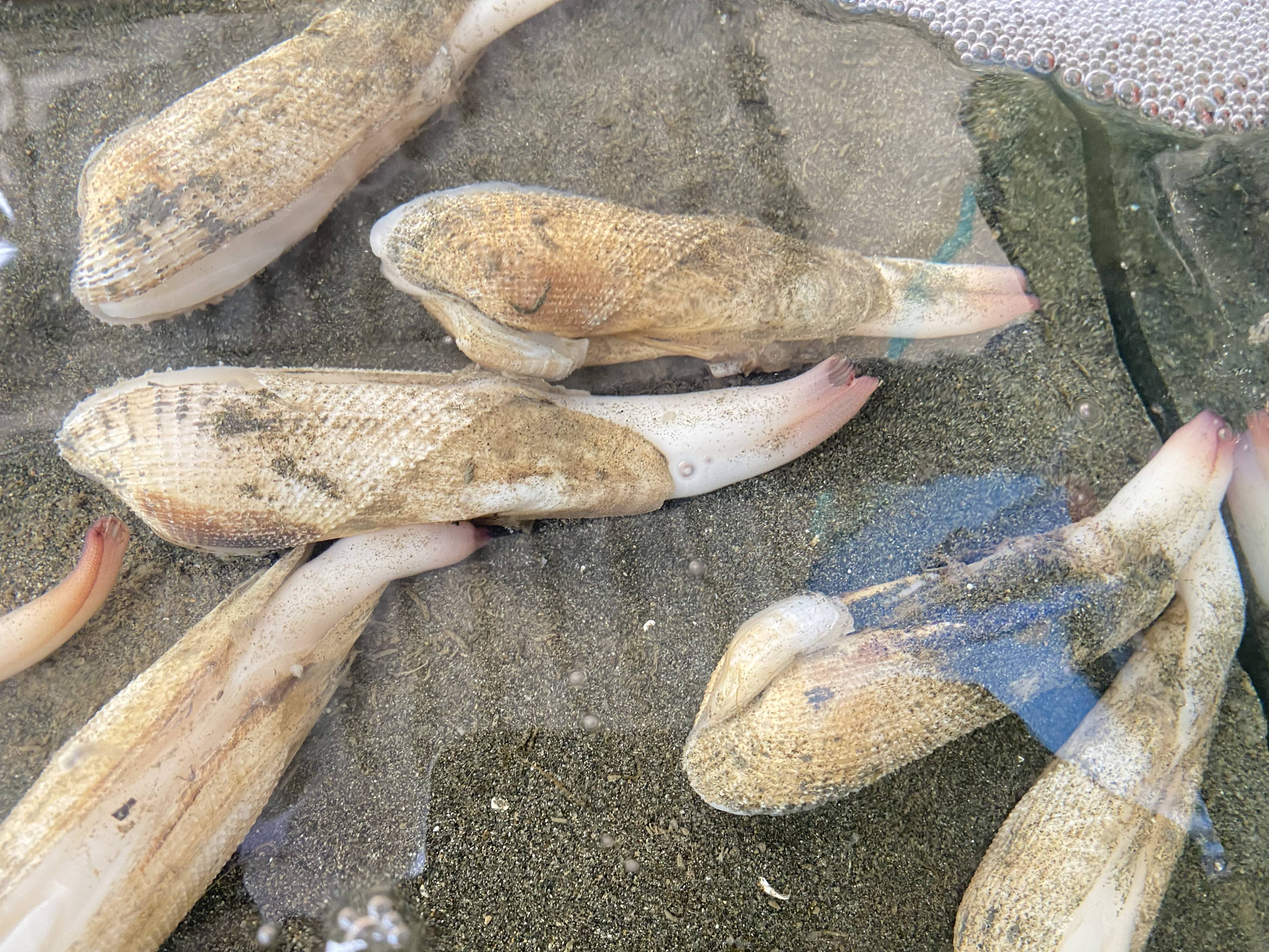Healthy: (683, 411, 1236, 814), (0, 522, 484, 952), (58, 360, 872, 552), (953, 515, 1244, 952), (0, 516, 129, 679), (846, 257, 1036, 338)
